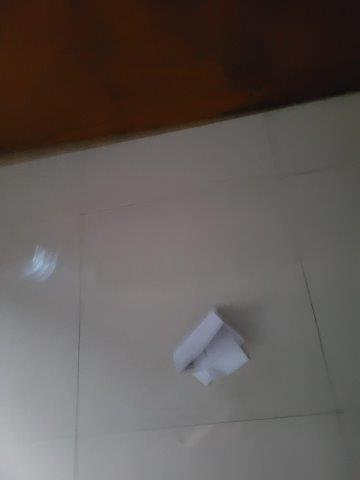kertas: (171, 312, 251, 386)
